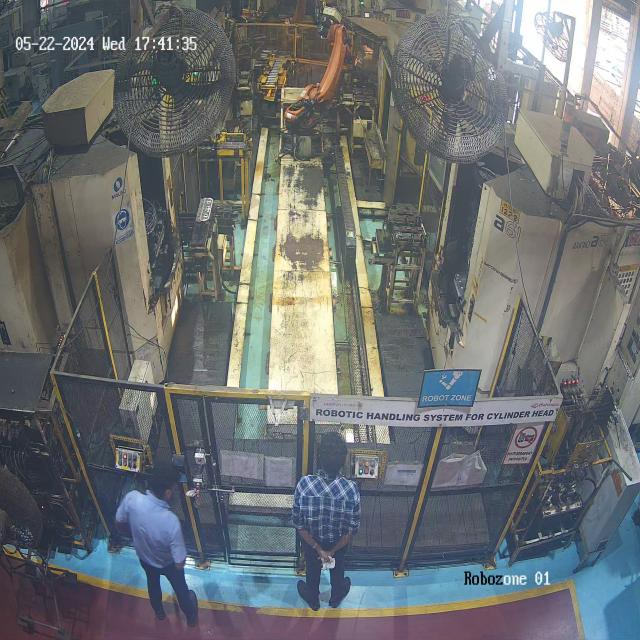person: (115, 441, 218, 637), (289, 419, 376, 617)
